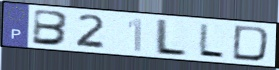1: (127, 17, 144, 52)
2: (74, 13, 107, 50)
B: (30, 8, 72, 48)
D: (230, 24, 272, 63)
L: (152, 18, 190, 58), (196, 22, 227, 60)
